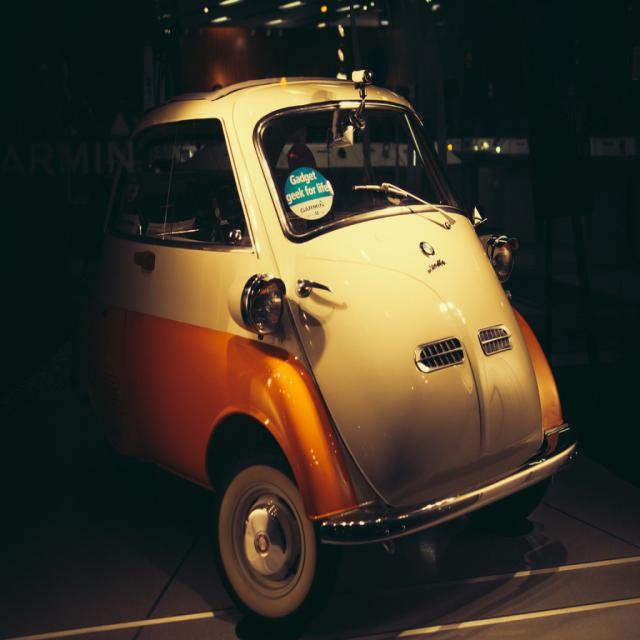car: (58, 69, 588, 616)
